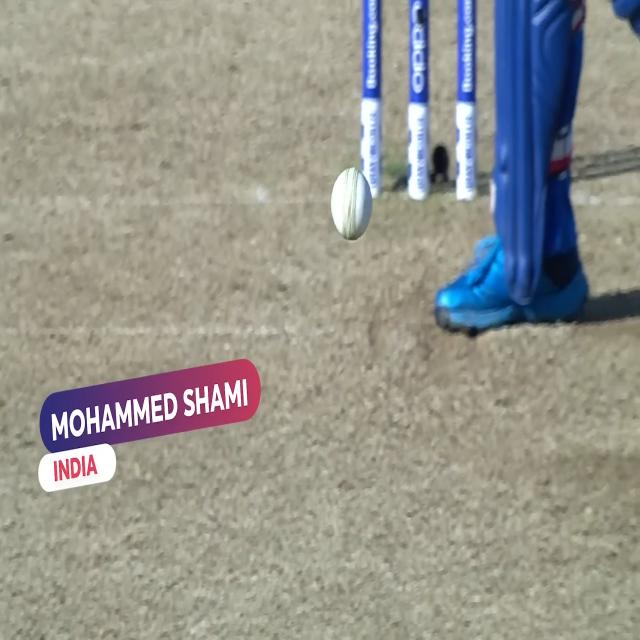ball: (318, 159, 388, 250)
